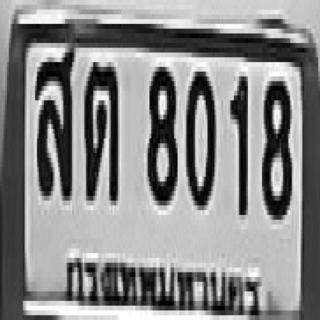A21: (82, 60, 116, 198)
A40: (34, 38, 74, 196)
N00: (184, 67, 214, 205)
N01: (228, 72, 246, 210)
N08: (260, 76, 290, 215), (146, 62, 176, 200)
P04: (64, 243, 264, 320)
